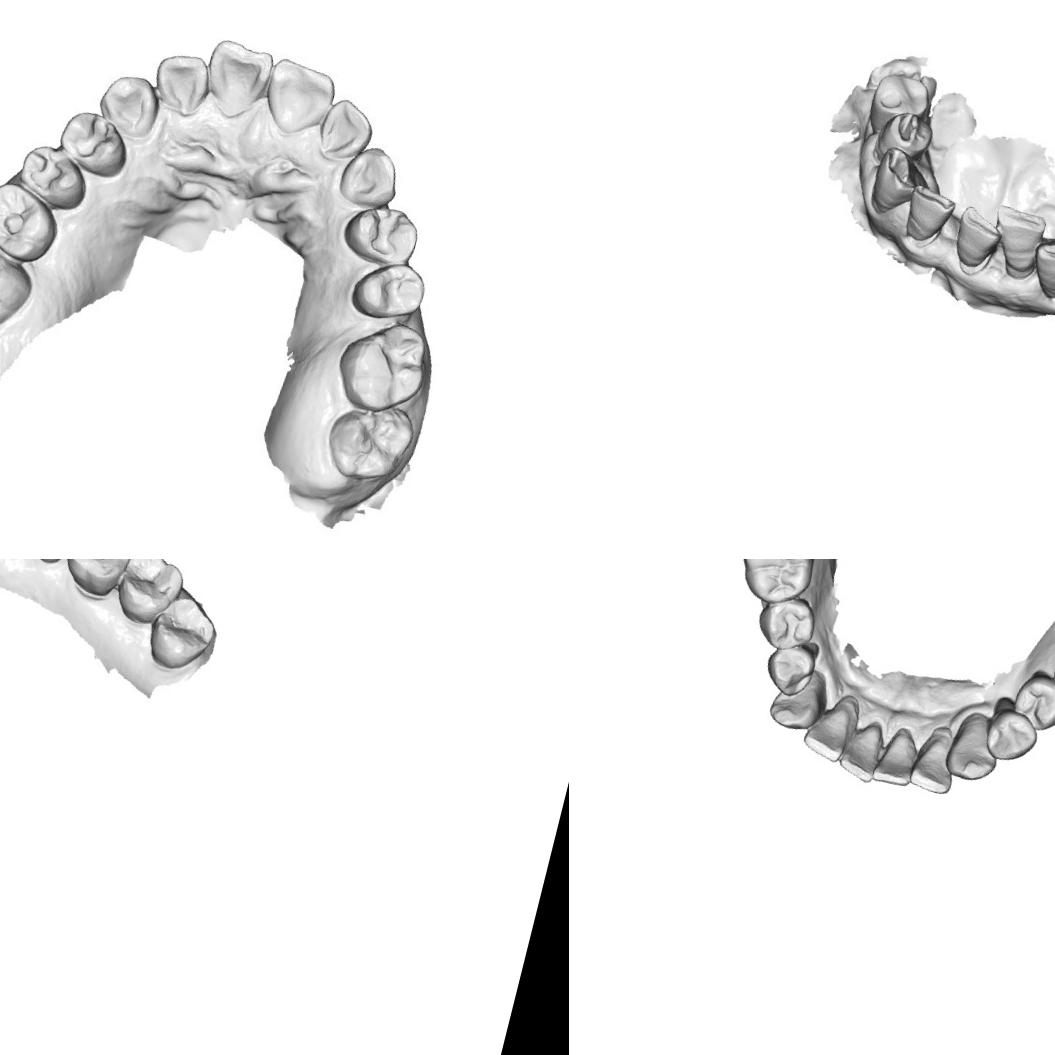canine: (91, 68, 167, 141), (764, 660, 835, 738), (940, 706, 1008, 786), (332, 140, 404, 215), (869, 148, 926, 214)
incisor: (259, 56, 336, 140), (199, 34, 274, 114), (983, 203, 1054, 287), (798, 685, 864, 766), (148, 46, 214, 118), (905, 720, 965, 798), (948, 204, 1006, 278), (834, 714, 890, 786), (869, 720, 924, 791), (317, 91, 374, 158), (900, 182, 956, 250), (1026, 235, 1055, 306)
molar: (326, 309, 440, 424), (322, 398, 417, 490), (140, 588, 223, 678), (108, 559, 191, 631), (729, 559, 823, 612), (0, 178, 59, 251), (55, 559, 141, 604), (0, 230, 37, 334)
premolar: (336, 196, 422, 273), (12, 140, 96, 216), (346, 255, 428, 327), (980, 691, 1046, 768), (751, 588, 822, 656), (759, 630, 822, 700), (868, 66, 932, 132), (56, 105, 124, 165), (1005, 661, 1055, 737), (881, 105, 938, 161)
